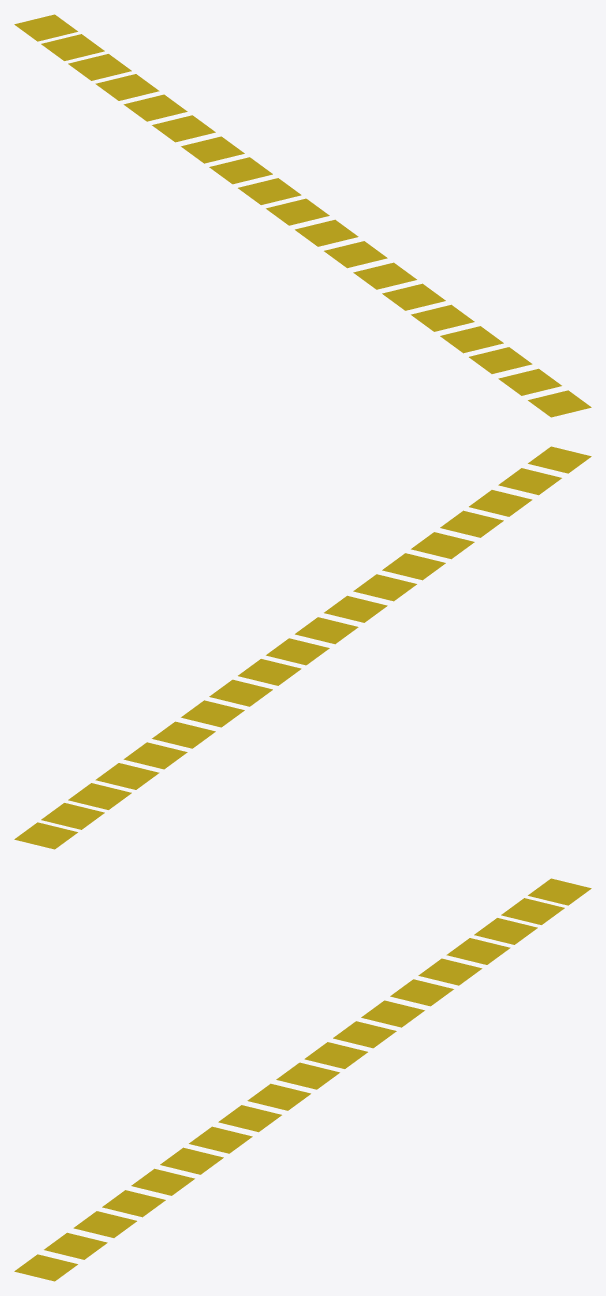
File: REFRRpbrskinpaint.dae
The picture shows the model from 3 angles, top to bottom: view 1: azimuth 30°, elevation 25°; view 2: azimuth 150°, elevation 25°; view 3: azimuth 330°, elevation 25°; orthographic projection.
Visible parts, largest first — view 1: RRpbrSkinBasemisc2REF, RRpbrSkinBasebumperrREF, RRpbrSkinBasehoodREF, RRpbrSkinBasemisc9REF, RRpbrSkinBasemisc7REF, RRpbrSkinBasemisc4REF, RRpbrSkinBasemisc1REF, RRpbrSkinBasegrilleREF, RRpbrSkinBasebumperfREF, RRpbrSkinBasemisc0REF, RRpbrSkinBasemisc8REF, RRpbrSkinBasemisc3REF (+7 smaller); view 2: RRpbrSkinBasemisc2REF, RRpbrSkinBasebumperrREF, RRpbrSkinBasehoodREF, RRpbrSkinBasemisc9REF, RRpbrSkinBasemisc7REF, RRpbrSkinBasemisc4REF, RRpbrSkinBasemisc1REF, RRpbrSkinBasegrilleREF, RRpbrSkinBasebumperfREF, RRpbrSkinBasemisc0REF, RRpbrSkinBasemisc8REF, RRpbrSkinBasemisc3REF (+7 smaller); view 3: RRpbrSkinBasemisc2REF, RRpbrSkinBasebumperrREF, RRpbrSkinBasehoodREF, RRpbrSkinBasemisc9REF, RRpbrSkinBasemisc7REF, RRpbrSkinBasemisc4REF, RRpbrSkinBasemisc1REF, RRpbrSkinBasegrilleREF, RRpbrSkinBasebumperfREF, RRpbrSkinBasemisc0REF, RRpbrSkinBasemisc8REF, RRpbrSkinBasemisc3REF (+7 smaller).
Boxes of the visible parts, bbox=[...] form: RRpbrSkinBasemisc2REF: bbox=[295, 219, 358, 246]; RRpbrSkinBasebumperrREF: bbox=[209, 157, 272, 184]; RRpbrSkinBasehoodREF: bbox=[123, 94, 187, 121]; RRpbrSkinBasemisc9REF: bbox=[498, 368, 561, 395]; RRpbrSkinBasemisc7REF: bbox=[440, 326, 503, 353]; RRpbrSkinBasemisc4REF: bbox=[353, 262, 416, 289]; RRpbrSkinBasemisc1REF: bbox=[266, 198, 329, 225]; RRpbrSkinBasegrilleREF: bbox=[95, 74, 159, 100]; RRpbrSkinBasebumperfREF: bbox=[41, 34, 104, 60]; RRpbrSkinBasemisc0REF: bbox=[528, 390, 591, 417]; RRpbrSkinBasemisc8REF: bbox=[469, 347, 532, 373]; RRpbrSkinBasemisc3REF: bbox=[324, 241, 387, 268]; RRpbrSkinBasemisc2REF: bbox=[295, 617, 358, 644]; RRpbrSkinBasebumperrREF: bbox=[209, 679, 272, 706]; RRpbrSkinBasehoodREF: bbox=[123, 742, 187, 769]; RRpbrSkinBasemisc9REF: bbox=[498, 468, 561, 495]; RRpbrSkinBasemisc7REF: bbox=[440, 510, 503, 537]; RRpbrSkinBasemisc4REF: bbox=[353, 574, 416, 601]; RRpbrSkinBasemisc1REF: bbox=[266, 638, 329, 665]; RRpbrSkinBasegrilleREF: bbox=[95, 763, 159, 789]; RRpbrSkinBasebumperfREF: bbox=[41, 803, 104, 829]; RRpbrSkinBasemisc0REF: bbox=[528, 446, 591, 473]; RRpbrSkinBasemisc8REF: bbox=[469, 490, 532, 516]; RRpbrSkinBasemisc3REF: bbox=[324, 595, 387, 622]; RRpbrSkinBasemisc2REF: bbox=[247, 1083, 310, 1110]; RRpbrSkinBasebumperrREF: bbox=[333, 1021, 396, 1048]; RRpbrSkinBasehoodREF: bbox=[418, 958, 482, 985]; RRpbrSkinBasemisc9REF: bbox=[44, 1232, 107, 1259]; RRpbrSkinBasemisc7REF: bbox=[102, 1190, 165, 1217]; RRpbrSkinBasemisc4REF: bbox=[189, 1126, 252, 1153]; RRpbrSkinBasemisc1REF: bbox=[276, 1062, 339, 1089]; RRpbrSkinBasegrilleREF: bbox=[446, 938, 510, 964]; RRpbrSkinBasebumperfREF: bbox=[501, 898, 564, 924]; RRpbrSkinBasemisc0REF: bbox=[14, 1254, 77, 1281]; RRpbrSkinBasemisc8REF: bbox=[73, 1211, 136, 1237]; RRpbrSkinBasemisc3REF: bbox=[218, 1105, 281, 1132].
Size of the model in its own units: 0.8581 by 19.52 by 0.
